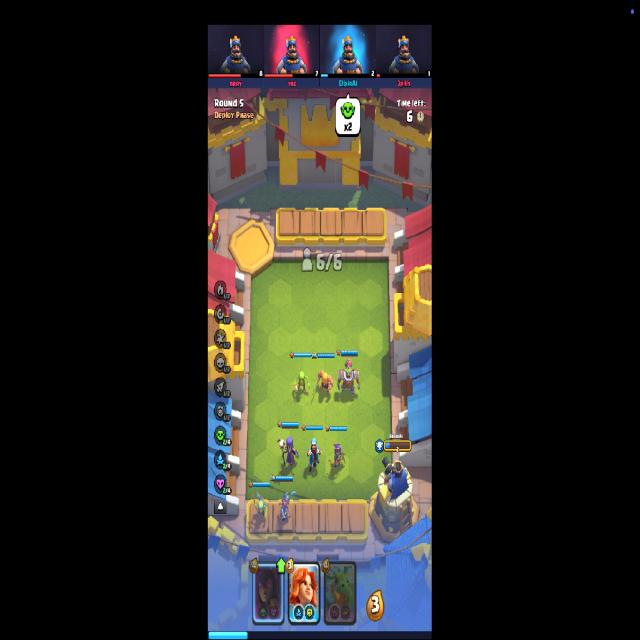archer_queen: (328, 443, 346, 470)
barbarian: (313, 370, 333, 398)
goblin_machine: (337, 358, 360, 396)
musketeer: (279, 490, 296, 522)
spear_goblin: (252, 492, 268, 518), (294, 371, 310, 393)
witch: (277, 436, 299, 468)
wizard: (307, 438, 321, 471)
